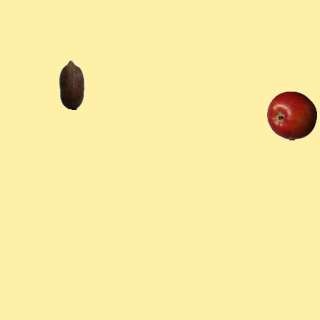Apple Braeburn: (266, 90, 316, 140)
Nut Pecan: (46, 59, 96, 109)
